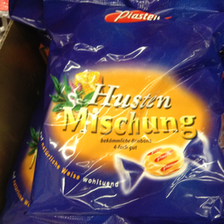candy: (24, 4, 221, 216)
